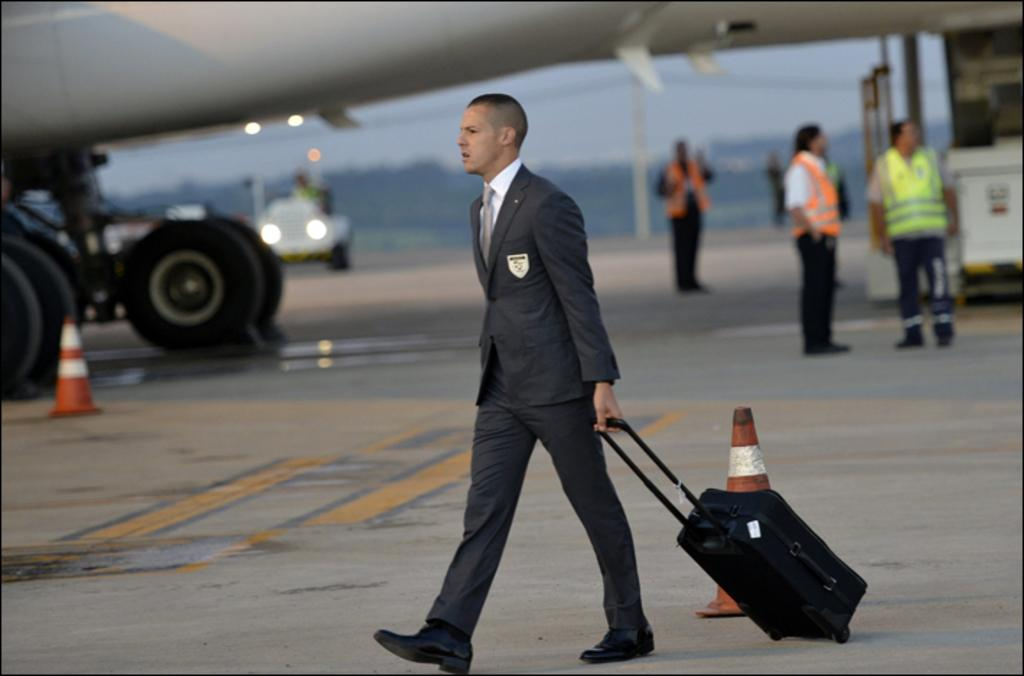Luggage-and-bags: (662, 440, 860, 646)
